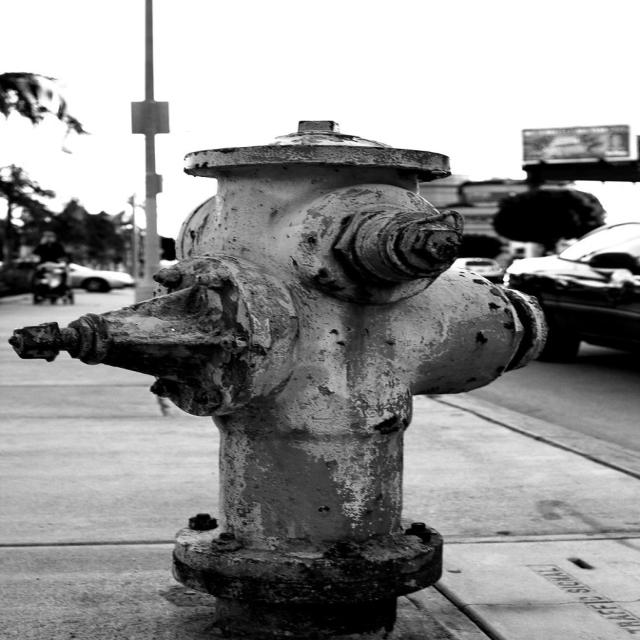fire_hydrant: (114, 117, 542, 621)
